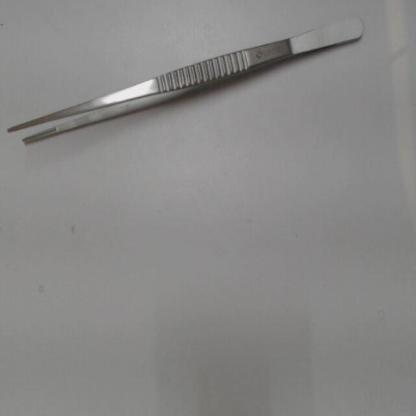DeBakey Dissector: (2, 5, 387, 162)
